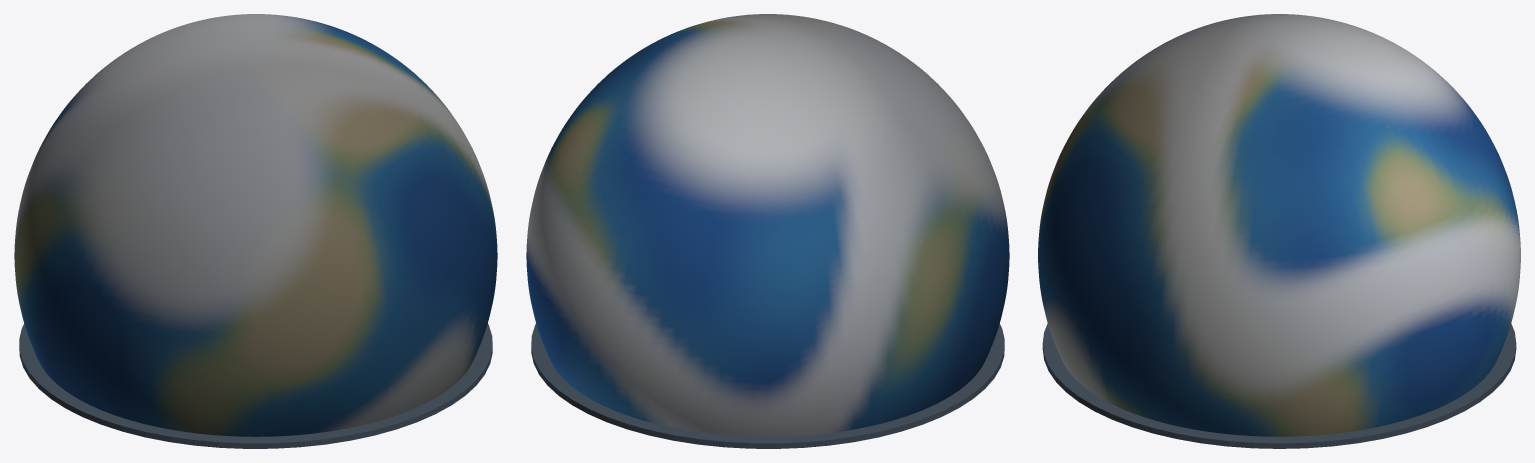
File: vegas_sphere.glb
3 views of the same model, side by side, from view 1: azimuth 30°, elevation 25°; view 2: azimuth 150°, elevation 25°; view 3: azimuth 270°, elevation 25° (orthographic).
Visible parts, largest first — view 1: sphere, base; view 2: sphere, base; view 3: sphere, base.
Boxes of the visible parts, x1,y1,x2,y2 form: sphere: [14, 14, 497, 436]; base: [19, 323, 492, 448]; sphere: [526, 14, 1009, 436]; base: [531, 323, 1004, 448]; sphere: [1038, 14, 1520, 436]; base: [1042, 323, 1516, 448].
Bounding box in the file's own units: 157 × 112 × 157.
